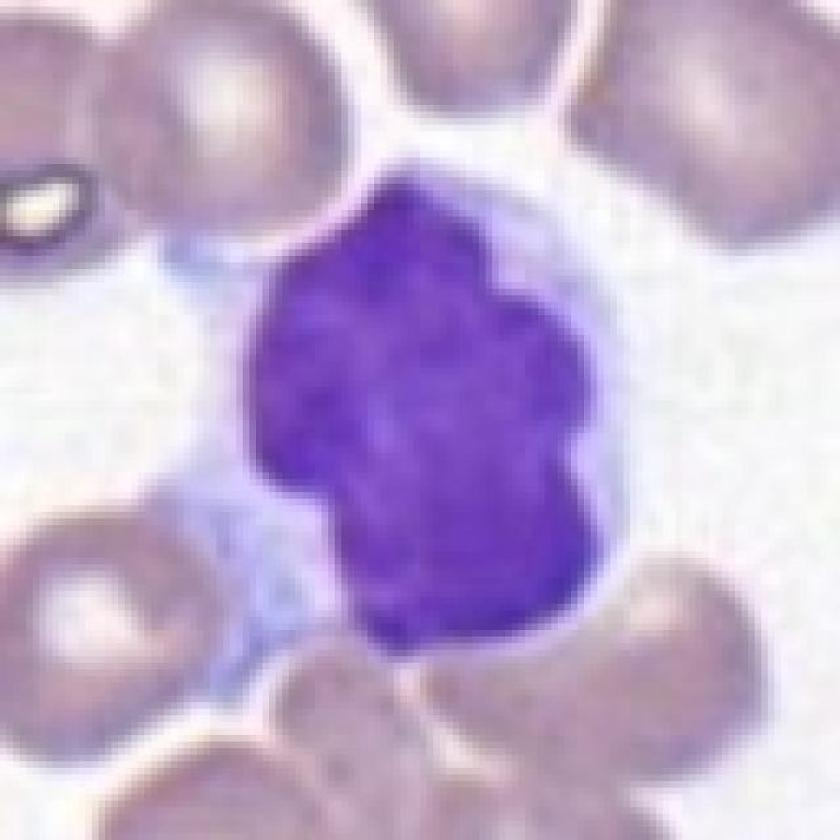lymphocyte: (142, 148, 646, 701)
